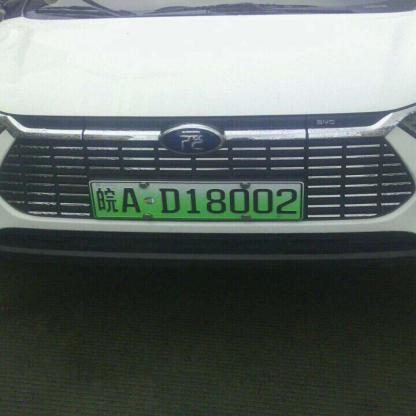lp: (91, 182, 301, 218)
